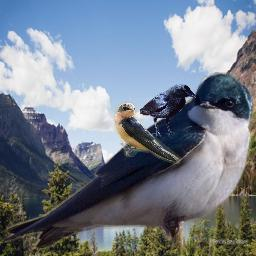Crow: (140, 84, 196, 138)
Swallow: (2, 72, 254, 249), (114, 99, 182, 164)
